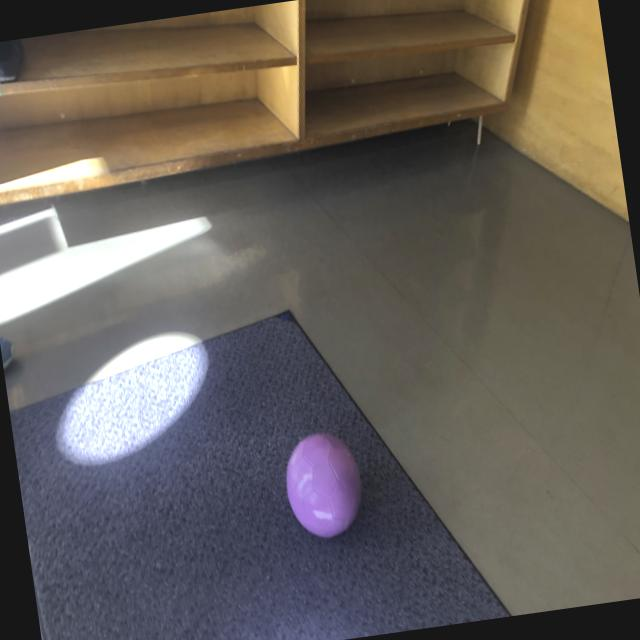purple_ball: (278, 428, 369, 544)
